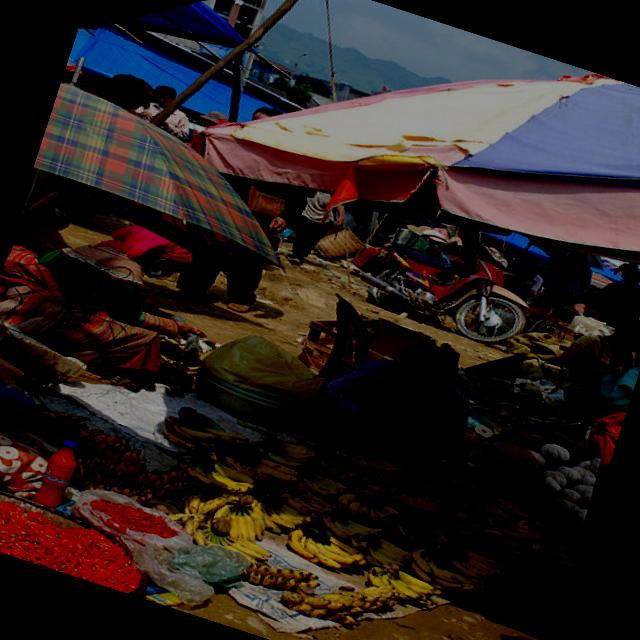Vehicle: (342, 226, 538, 352)
